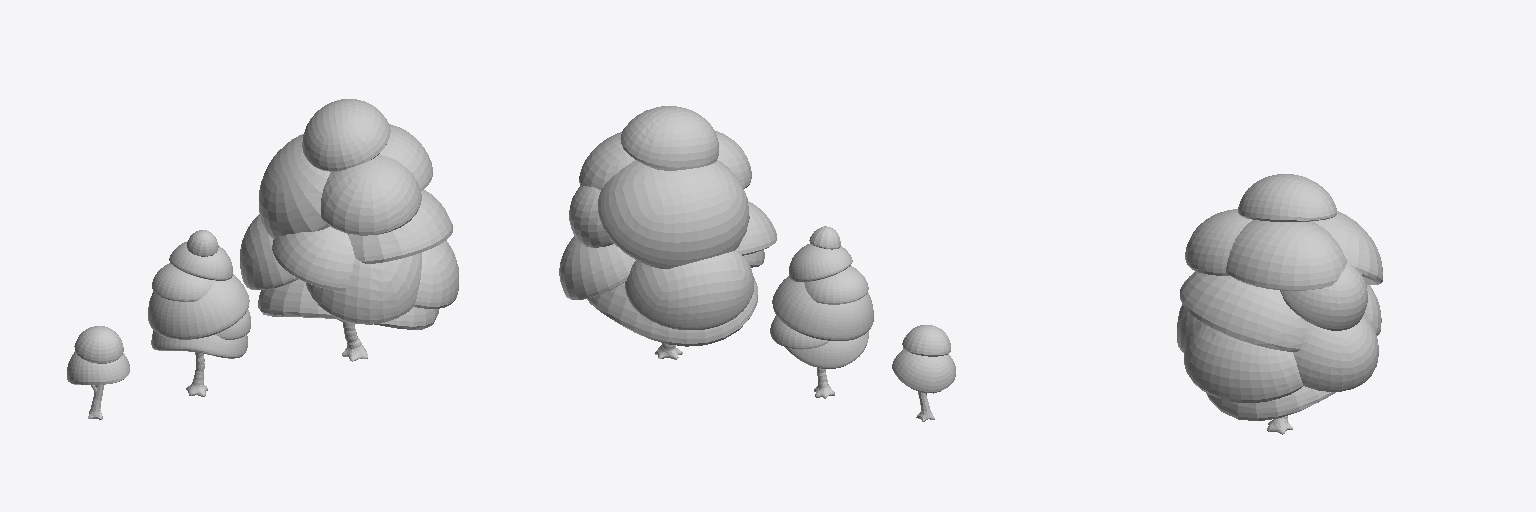
The model's file is 3 Trees OBJ.obj.
3 renders of one model, left to right at view 1: azimuth 30°, elevation 25°; view 2: azimuth 150°, elevation 25°; view 3: azimuth 270°, elevation 25°, orthographic.
Visible parts, largest first — view 1: Tree_Fill Tree_Large polySurface23, Tree_Fill Tree_Large polySurface14, Tree_Fill Tree_Large polySurface18, Tree_Fill Tree_Large polySurface24, Tree_Fill Tree_Medium Group60769, Tree_Fill Tree_Large polySurface15, Tree_Fill Tree_Large polySurface21, Tree_Fill Tree_Large polySurface16, polySurface25 Tree_Fill Tree_Large, Tree_Fill Tree_Large polySurface17, Tree_Fill Tree_Large polySurface22, Tree_Fill Tree_Medium Group60768 (+6 smaller); view 2: Tree_Fill Tree_Large polySurface18, polySurface25 Tree_Fill Tree_Large, Tree_Fill Tree_Large polySurface24, Tree_Fill Tree_Medium Group60769, Tree_Fill Tree_Large polySurface16, Tree_Fill Tree_Large polySurface20, Tree_Small polySurface29, Tree_Fill Tree_Medium Group60767, Tree_Fill Tree_Large polySurface19, Tree_Fill Tree_Large polySurface22, Tree_Fill Tree_Medium Group60768, Group60772 Tree_Fill Tree_Medium (+5 smaller); view 3: Tree_Fill Tree_Large polySurface22, Tree_Fill Tree_Large polySurface21, Tree_Fill Tree_Large polySurface17, Tree_Fill Tree_Large polySurface20, Tree_Fill Tree_Large polySurface24, Tree_Fill Tree_Large polySurface19, Tree_Fill Tree_Large polySurface23, Tree_Fill Tree_Large polySurface18, Tree_Fill Tree_Large polySurface16, Tree_Fill Tree_Large polySurface14.
Part boxes in pixels (bbox=[...]): Tree_Fill Tree_Large polySurface23: bbox=[321, 155, 421, 235]; Tree_Fill Tree_Large polySurface14: bbox=[306, 253, 421, 324]; Tree_Fill Tree_Large polySurface18: bbox=[259, 134, 330, 238]; Tree_Fill Tree_Large polySurface24: bbox=[302, 99, 390, 171]; Tree_Fill Tree_Medium Group60769: bbox=[148, 274, 249, 339]; Tree_Fill Tree_Large polySurface15: bbox=[272, 226, 354, 290]; Tree_Fill Tree_Large polySurface21: bbox=[348, 190, 452, 263]; Tree_Fill Tree_Large polySurface16: bbox=[258, 279, 438, 329]; polySurface25 Tree_Fill Tree_Large: bbox=[240, 214, 297, 289]; Tree_Fill Tree_Large polySurface17: bbox=[414, 240, 458, 308]; Tree_Fill Tree_Large polySurface22: bbox=[379, 124, 432, 190]; Tree_Fill Tree_Medium Group60768: bbox=[152, 263, 213, 301]; Tree_Fill Tree_Large polySurface18: bbox=[598, 160, 749, 268]; polySurface25 Tree_Fill Tree_Large: bbox=[625, 251, 753, 329]; Tree_Fill Tree_Large polySurface24: bbox=[620, 106, 718, 170]; Tree_Fill Tree_Medium Group60769: bbox=[772, 276, 873, 340]; Tree_Fill Tree_Large polySurface16: bbox=[587, 276, 757, 346]; Tree_Fill Tree_Large polySurface20: bbox=[559, 236, 635, 299]; Tree_Small polySurface29: bbox=[892, 349, 955, 393]; Tree_Fill Tree_Medium Group60767: bbox=[789, 244, 852, 281]; Tree_Fill Tree_Large polySurface19: bbox=[569, 186, 613, 247]; Tree_Fill Tree_Large polySurface22: bbox=[579, 132, 634, 189]; Tree_Fill Tree_Medium Group60768: bbox=[804, 266, 868, 304]; Group60772 Tree_Fill Tree_Medium: bbox=[785, 331, 868, 368]; Tree_Fill Tree_Large polySurface22: bbox=[1226, 220, 1346, 290]; Tree_Fill Tree_Large polySurface21: bbox=[1180, 271, 1310, 351]; Tree_Fill Tree_Large polySurface17: bbox=[1184, 325, 1302, 402]; Tree_Fill Tree_Large polySurface20: bbox=[1293, 314, 1378, 391]; Tree_Fill Tree_Large polySurface24: bbox=[1238, 174, 1336, 221]; Tree_Fill Tree_Large polySurface19: bbox=[1280, 264, 1367, 330]; Tree_Fill Tree_Large polySurface23: bbox=[1185, 209, 1252, 275]; Tree_Fill Tree_Large polySurface18: bbox=[1313, 211, 1382, 284]; Tree_Fill Tree_Large polySurface16: bbox=[1206, 386, 1335, 420]; Tree_Fill Tree_Large polySurface14: bbox=[1177, 304, 1205, 352].
Size of the model in its own units: 12.23 by 7.89 by 5.93.